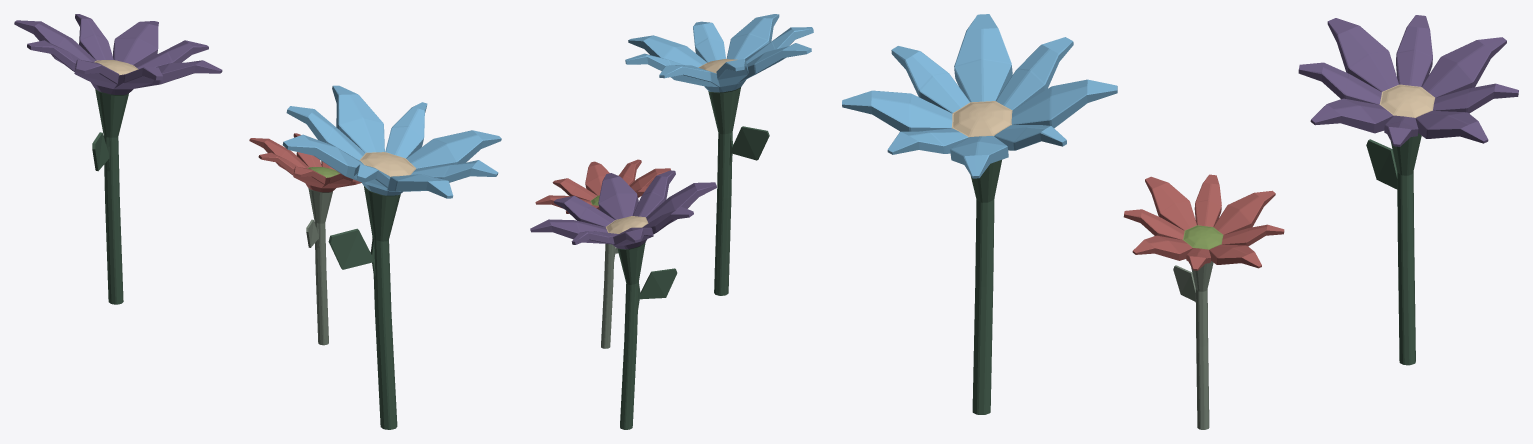
The model's file is flower_1_garden.fbx.
3 views of the same model, side by side, from view 1: azimuth 30°, elevation 25°; view 2: azimuth 150°, elevation 25°; view 3: azimuth 270°, elevation 25° (orthographic). The views are drawn at different scales.
Visible parts, largest first — view 1: flower_1_garden, Cylinder.010, Cylinder.007, Cylinder.004, Cylinder.011, Cylinder.009; view 2: Cylinder.010, flower_1_garden, Cylinder.007, Cylinder.011, Cylinder.004, Cylinder.009; view 3: flower_1_garden, Cylinder.007, Cylinder.010, Cylinder.011, Cylinder.009, Cylinder.004, Cylinder.024.
Part boxes in pixels (x1,y1,x2,y2): flower_1_garden: (282,85,501,198); Cylinder.010: (92,88,400,429); Cylinder.007: (14,14,222,94); Cylinder.004: (306,187,332,345); Cylinder.011: (249,133,361,192); Cylinder.009: (94,60,416,176); Cylinder.010: (617,87,769,429); flower_1_garden: (625,14,813,92); Cylinder.007: (530,170,716,249); Cylinder.011: (535,159,670,213); Cylinder.004: (601,244,618,348); Cylinder.009: (605,59,737,233); flower_1_garden: (842,14,1117,178); Cylinder.007: (1298,15,1518,146); Cylinder.010: (970,133,1421,414); Cylinder.011: (1123,174,1284,270); Cylinder.009: (951,84,1434,137); Cylinder.004: (1173,261,1213,429); Cylinder.024: (1183,225,1223,249).
Size of the model in its own units: 34.34 by 37.04 by 66.43.
